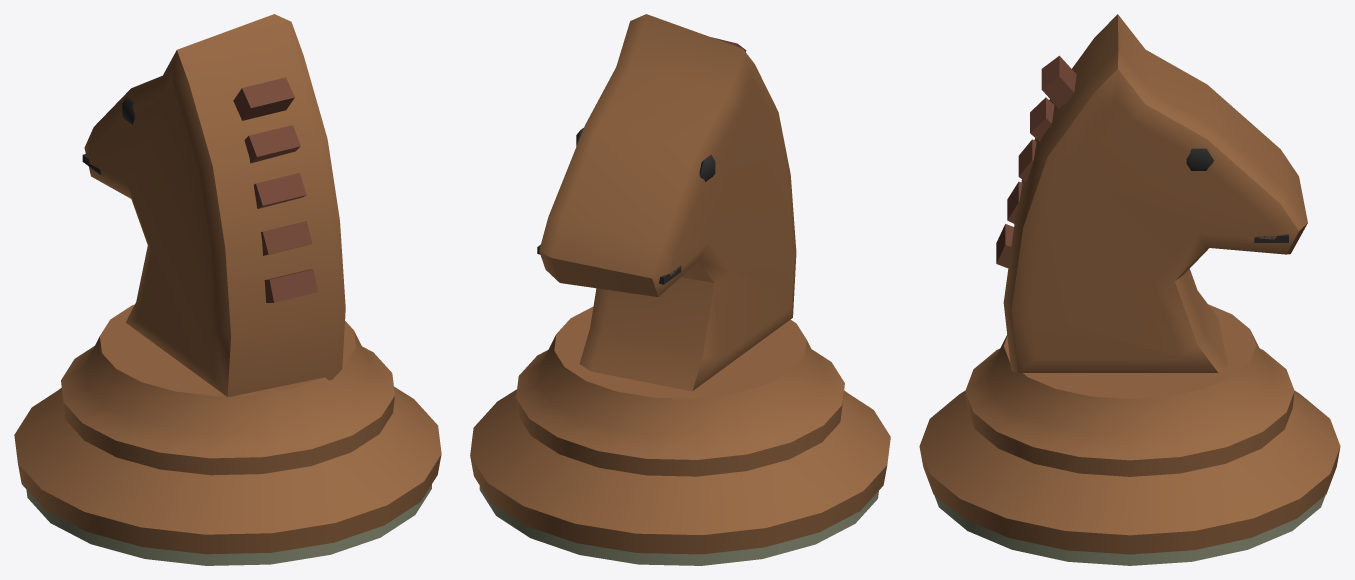
The model's file is chess_piece.glb.
3 renders of one model, left to right at view 1: azimuth 30°, elevation 25°; view 2: azimuth 150°, elevation 25°; view 3: azimuth 270°, elevation 25°, orthographic. The views are drawn at different scales.
Visible parts, largest first — view 1: body; view 2: body; view 3: body.
Boxes of the visible parts, x1=… form: body: x1=14, y1=14, x2=441, y2=565; body: x1=470, y1=14, x2=890, y2=565; body: x1=919, y1=14, x2=1340, y2=565.
Size of the model in its own units: 0.0572 by 0.0676 by 0.0572.
